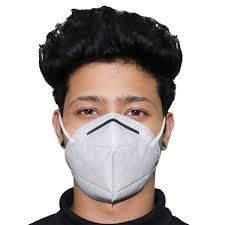with-mask: (41, 36, 180, 211)
